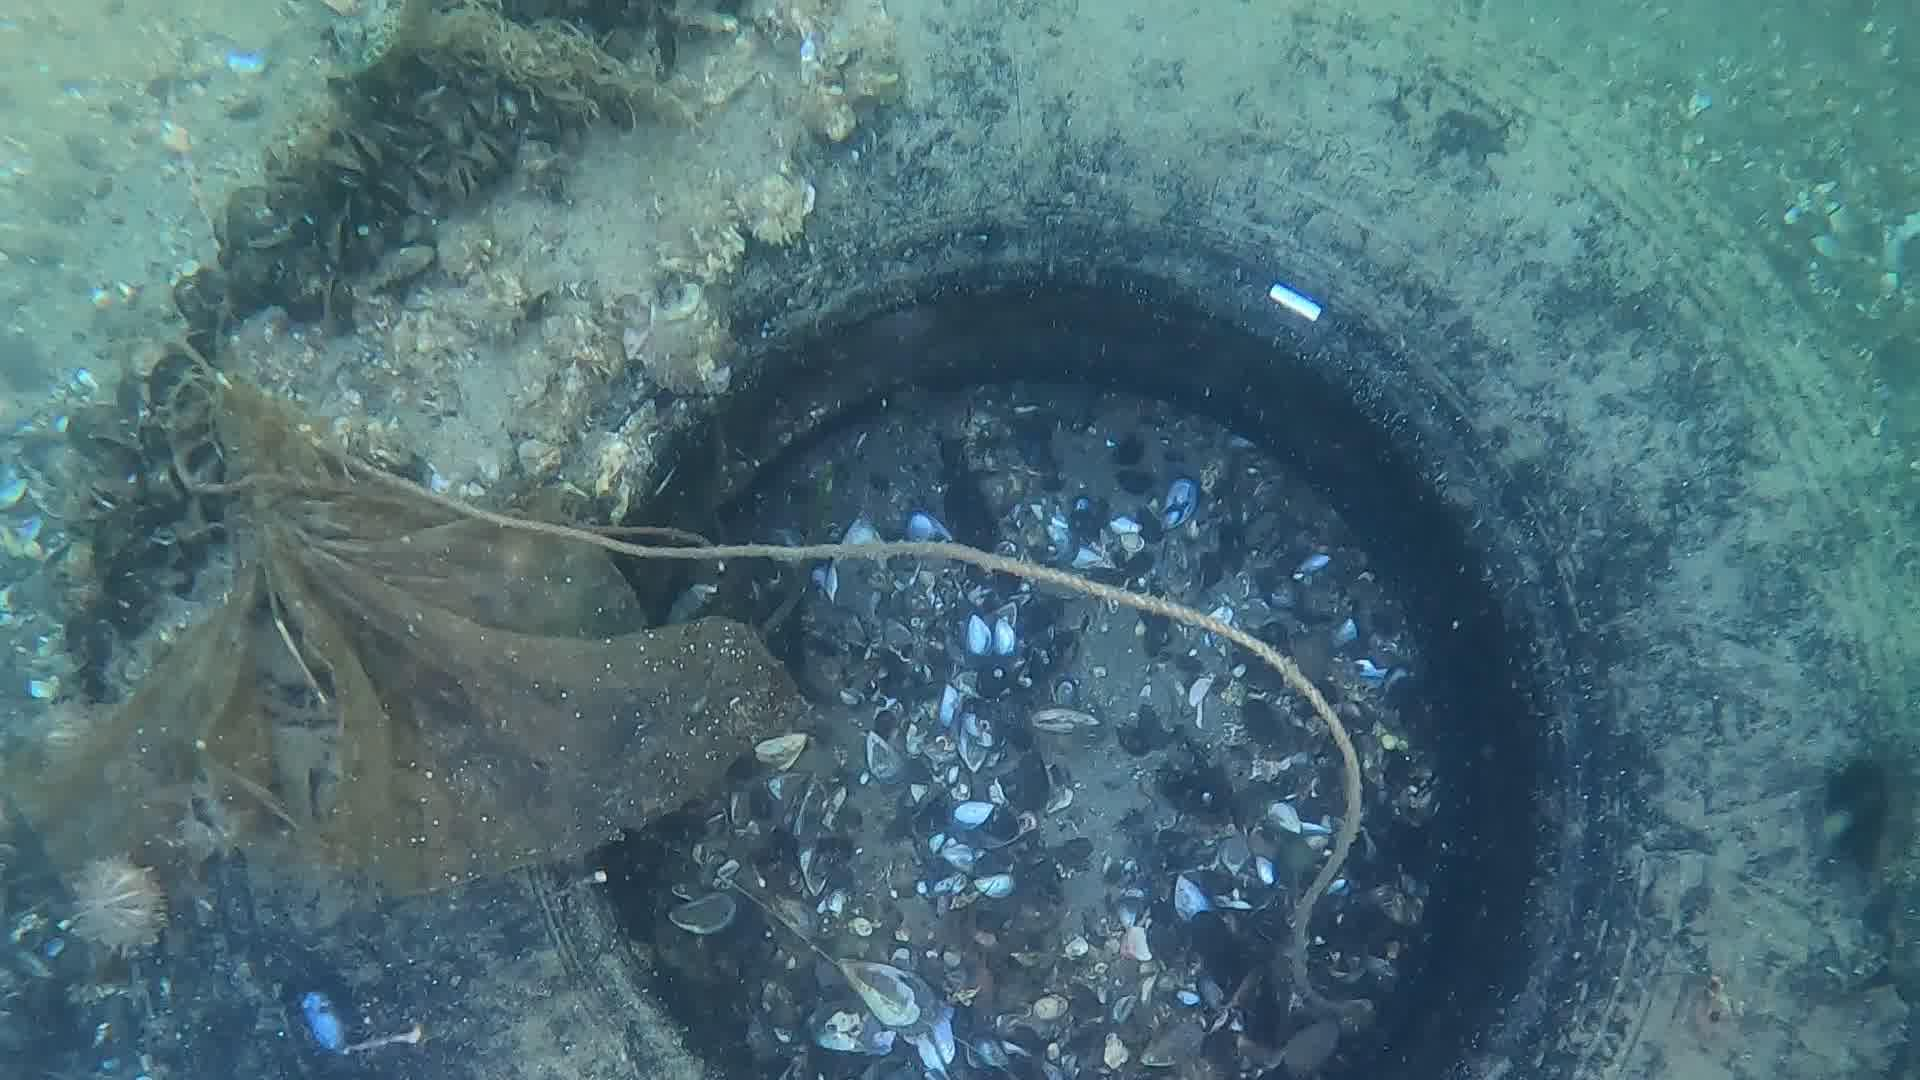rope: (156, 363, 1367, 1004)
tire: (75, 3, 1920, 1080)
